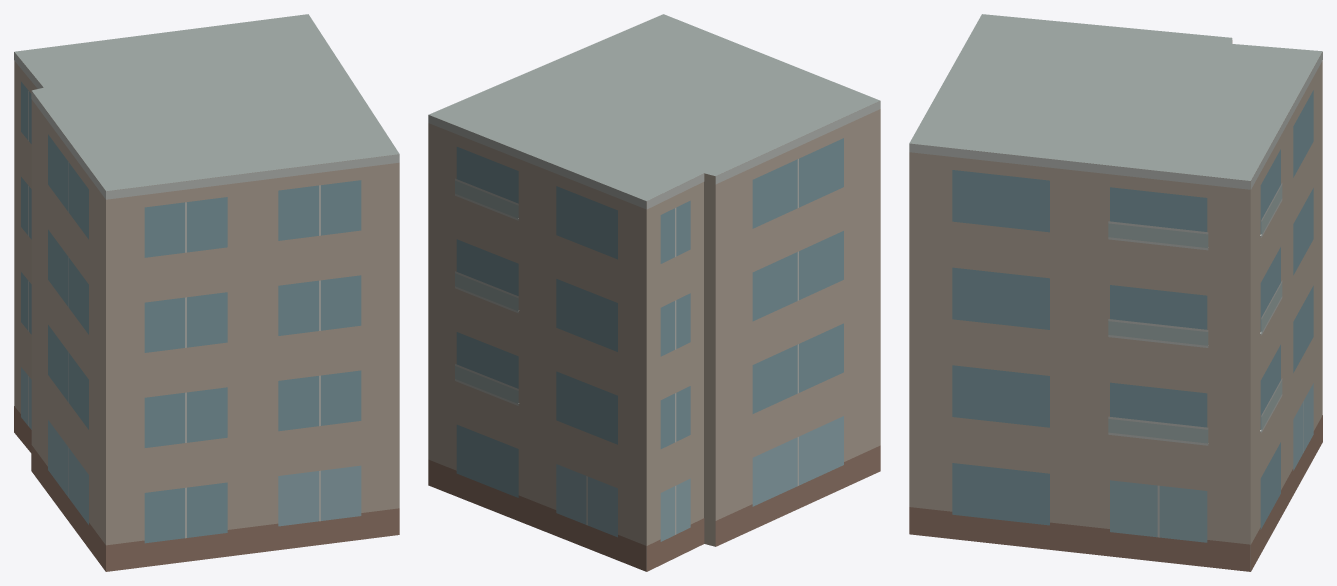
File: survey-upis-32983910.glb
3 views of the same model, side by side, from view 1: azimuth 30°, elevation 25°; view 2: azimuth 150°, elevation 25°; view 3: azimuth 270°, elevation 25° (orthographic). The views are drawn at different scales.
Parts seen in each view (by area): view 1: survey-upis-32983910.tmp; view 2: survey-upis-32983910.tmp; view 3: survey-upis-32983910.tmp.
Part boxes in pixels (<box>): survey-upis-32983910.tmp: <box>14,14,399,571</box>; survey-upis-32983910.tmp: <box>428,14,880,571</box>; survey-upis-32983910.tmp: <box>909,14,1322,571</box>.
Size of the model in its own units: 10 by 10.9 by 10.46.
